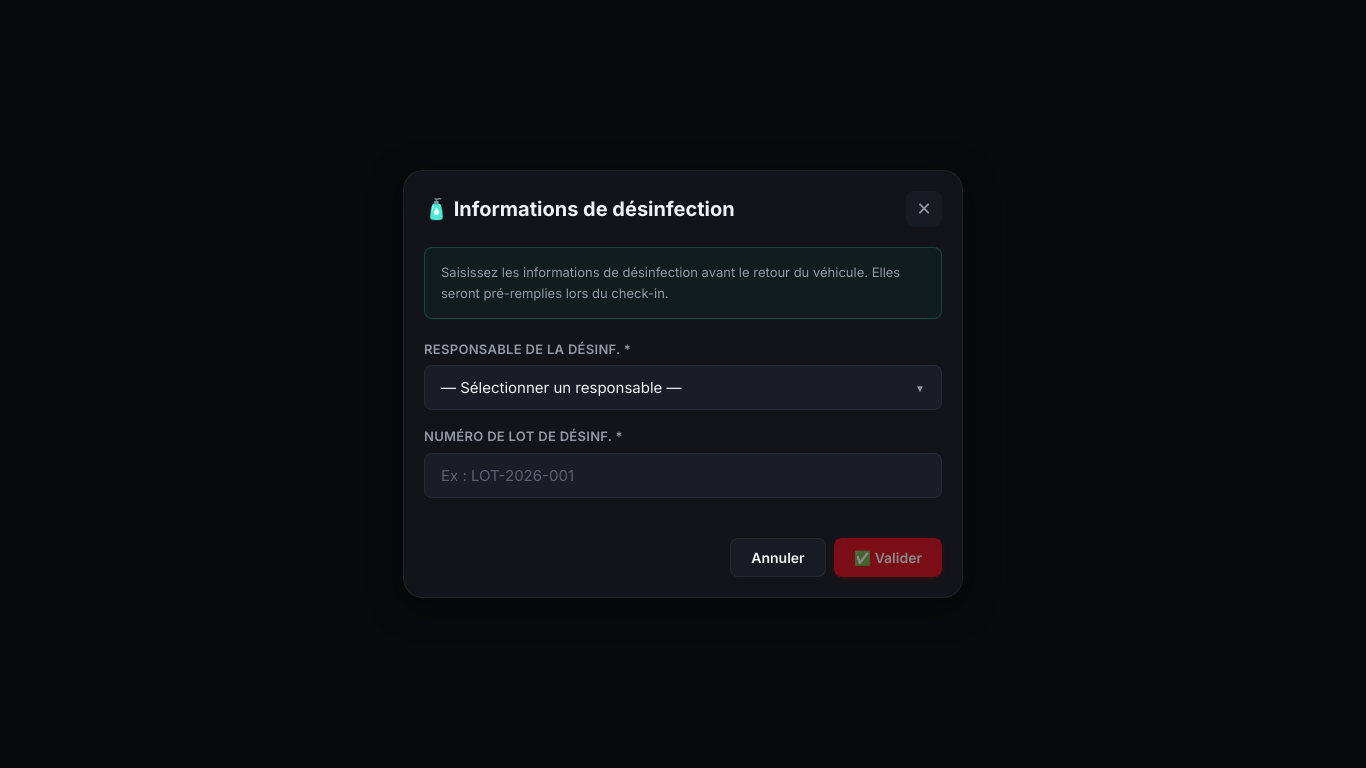
Scenario: DesinfPreCheckinModal › charge la liste des utilisateurs au montage
Click the button "— Sélectionner un responsable — ▼" at (683, 388), box [424, 365, 942, 410]
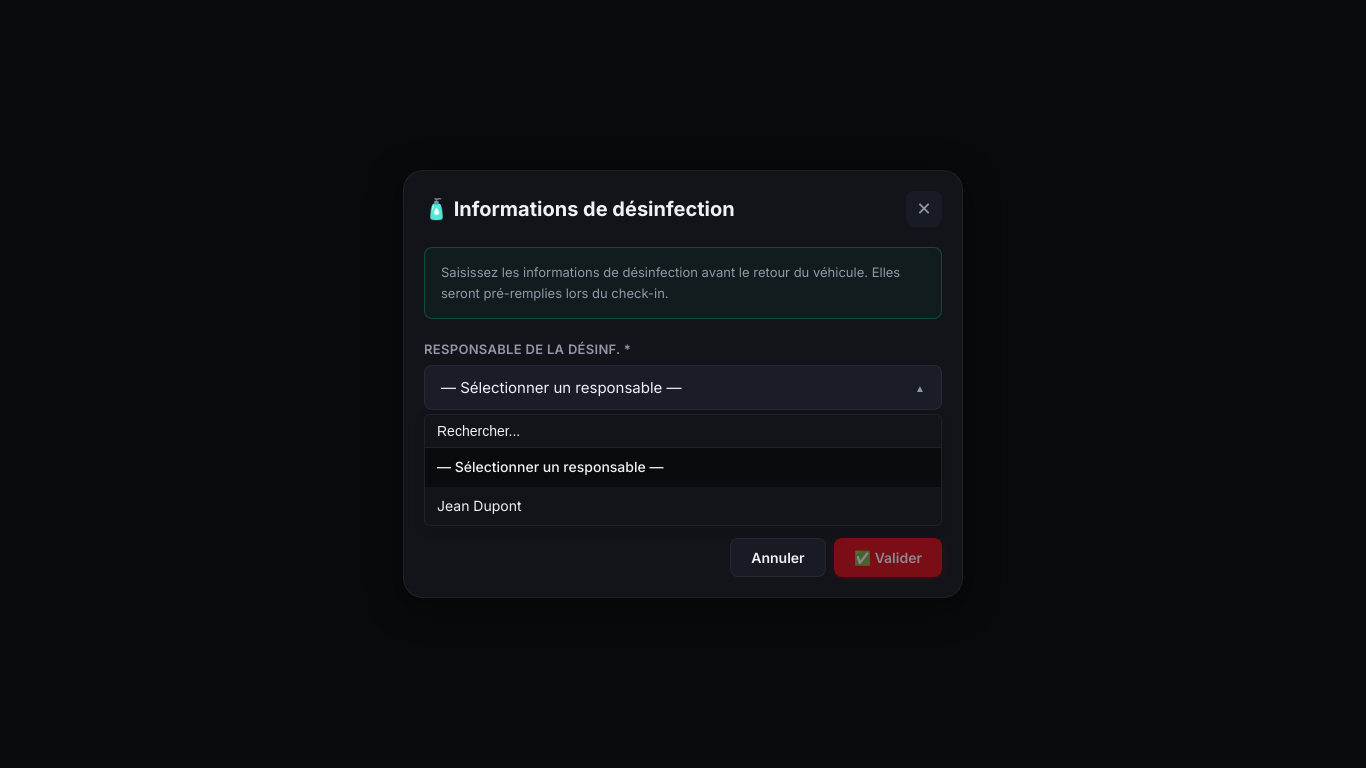
Result: the option "Jean Dupont" is shown at [437, 497, 522, 514]
